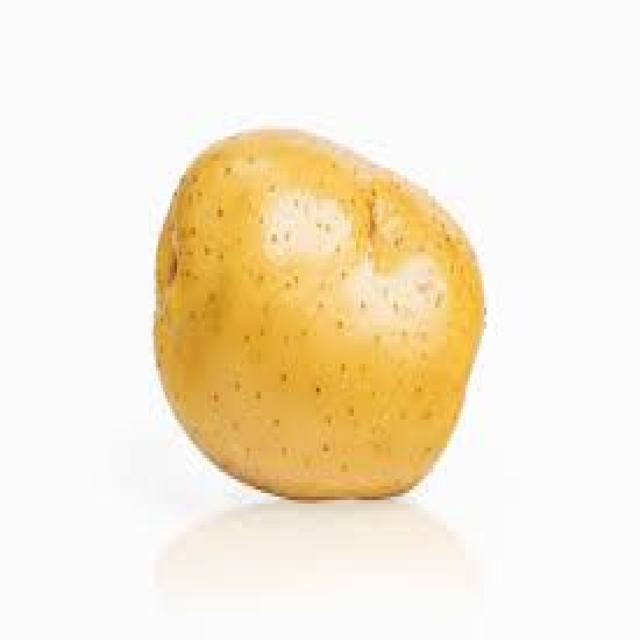Potato: (132, 110, 494, 518)
